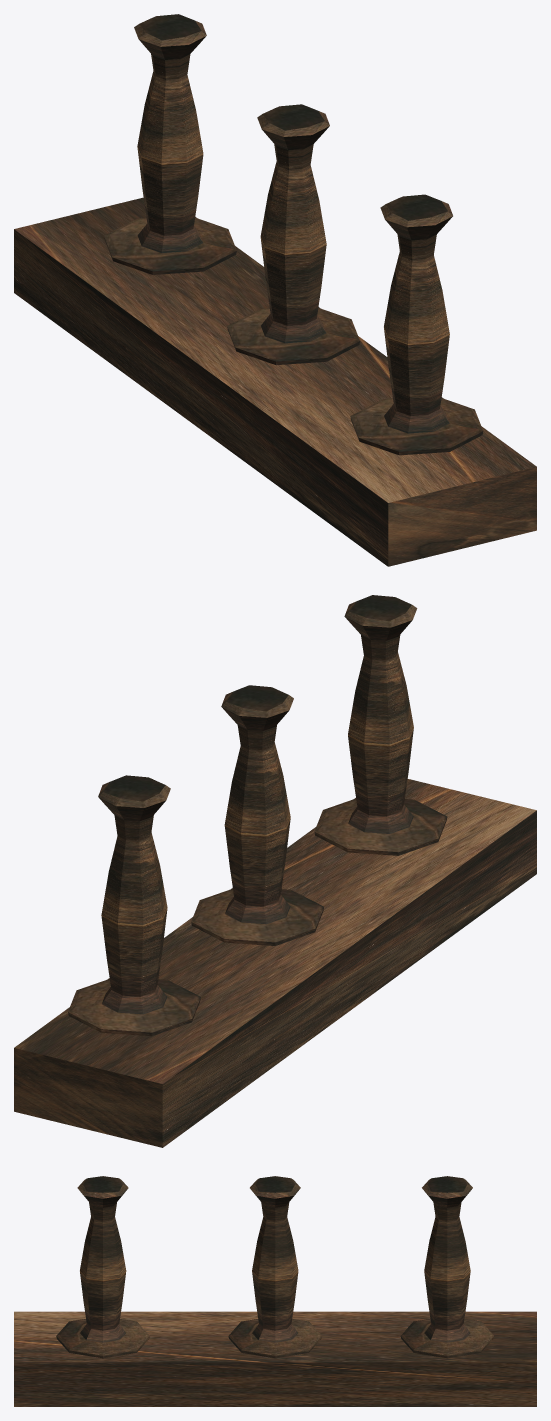
File: BeerHandle.fbx
3 renders of one model, top to bottom at view 1: azimuth 30°, elevation 25°; view 2: azimuth 150°, elevation 25°; view 3: azimuth 270°, elevation 25°, orthographic. The views are drawn at different scales.
Visible parts, largest first — view 1: Beer level stand, Beer Lever; view 2: Beer level stand, Beer Lever; view 3: Beer level stand, Beer Lever.
Part boxes in pixels (<box>): Beer level stand: <box>14,197,536,566</box>; Beer Lever: <box>104,14,483,455</box>; Beer level stand: <box>14,779,536,1147</box>; Beer Lever: <box>68,595,447,1036</box>; Beer level stand: <box>14,1311,536,1406</box>; Beer Lever: <box>56,1176,493,1358</box>.
Bounding box in the file's own units: 24.85 × 46.18 × 107.
